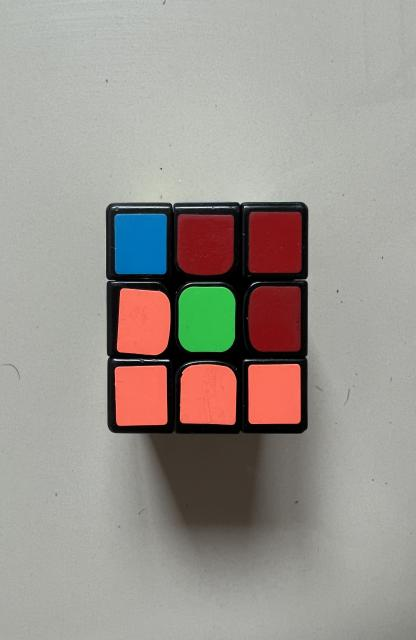Blue: (114, 214, 167, 275)
Green: (178, 286, 236, 352)
Orange: (117, 289, 170, 355), (180, 364, 236, 425), (115, 365, 168, 426), (248, 364, 301, 424)
Red: (177, 214, 234, 275), (248, 286, 301, 351), (248, 211, 302, 274)
